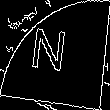N_S: (34, 27, 76, 83)
